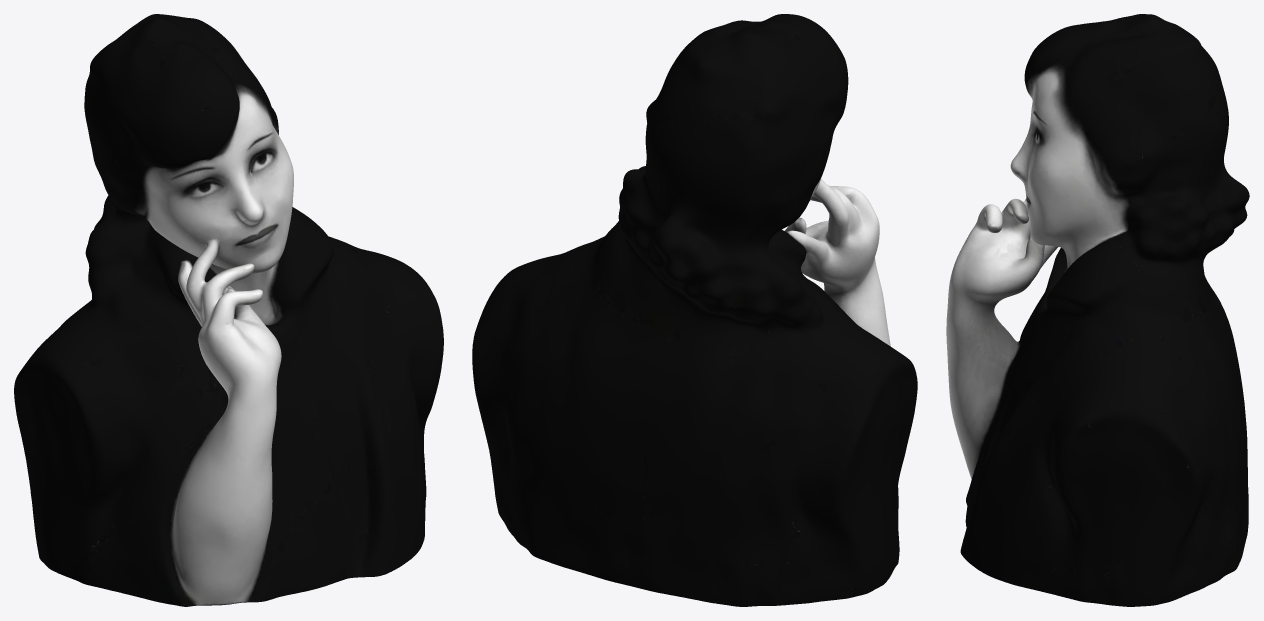
File: Meshy_AI_Contemplative_Gaze_1025170422_texture (1).glb
3 renders of one model, left to right at view 1: azimuth 30°, elevation 25°; view 2: azimuth 150°, elevation 25°; view 3: azimuth 270°, elevation 25°, orthographic. The views are drawn at different scales.
Size of the model in its own units: 1.46 by 1.9 by 1.09.
Materials: 1 (1 with a texture image).
